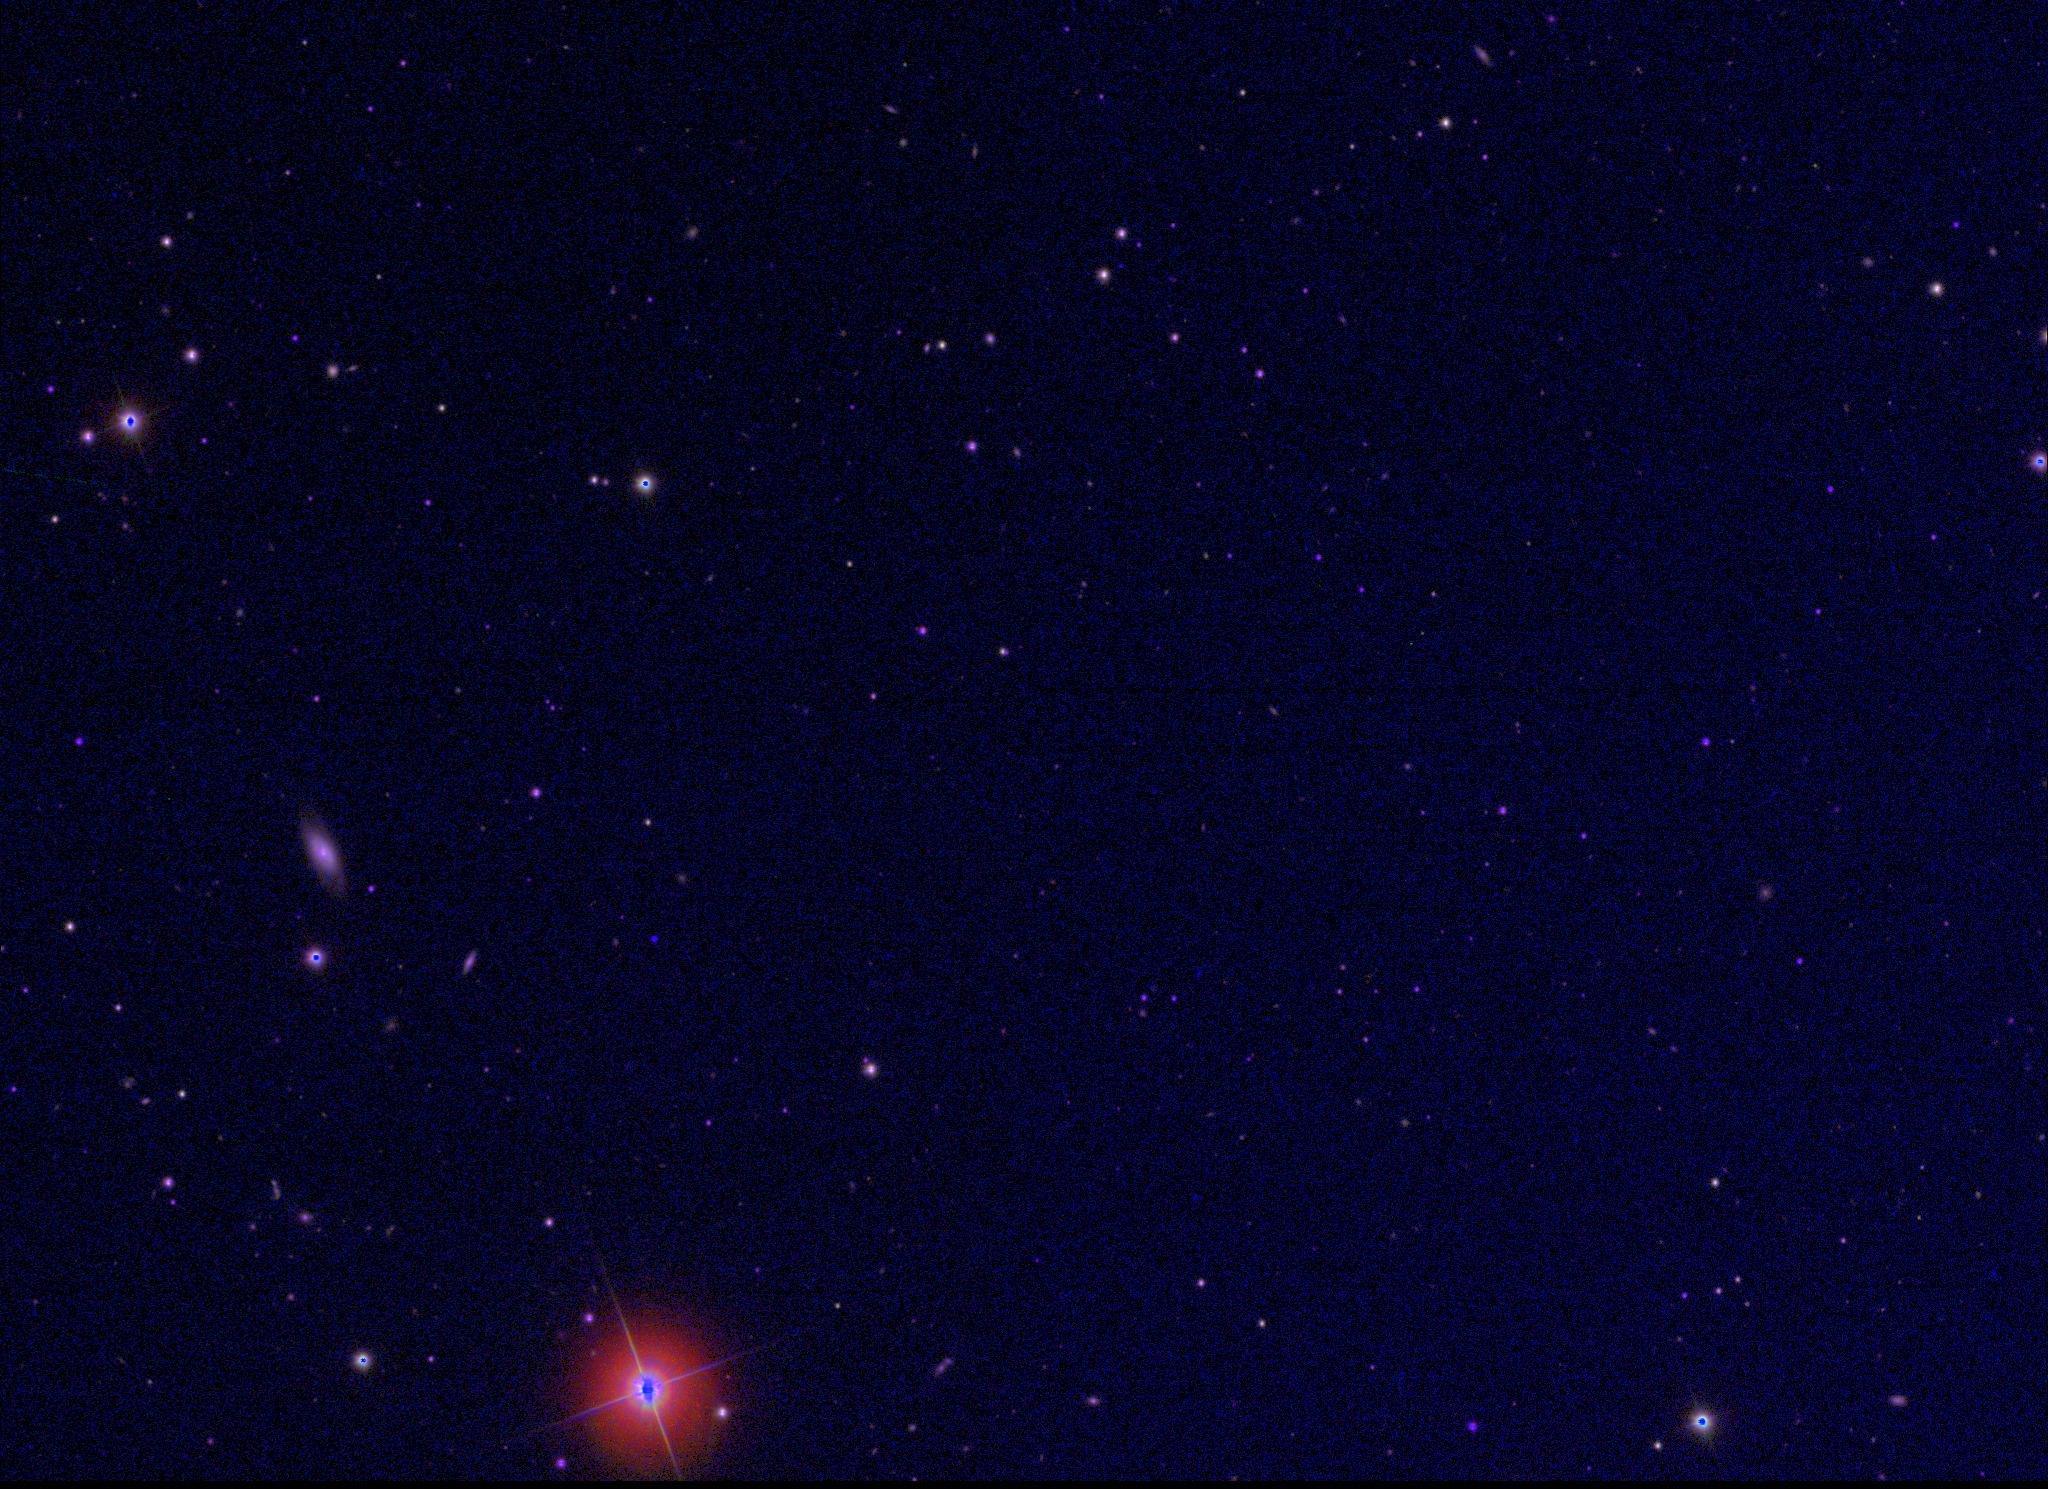L: (647, 932, 661, 947)
